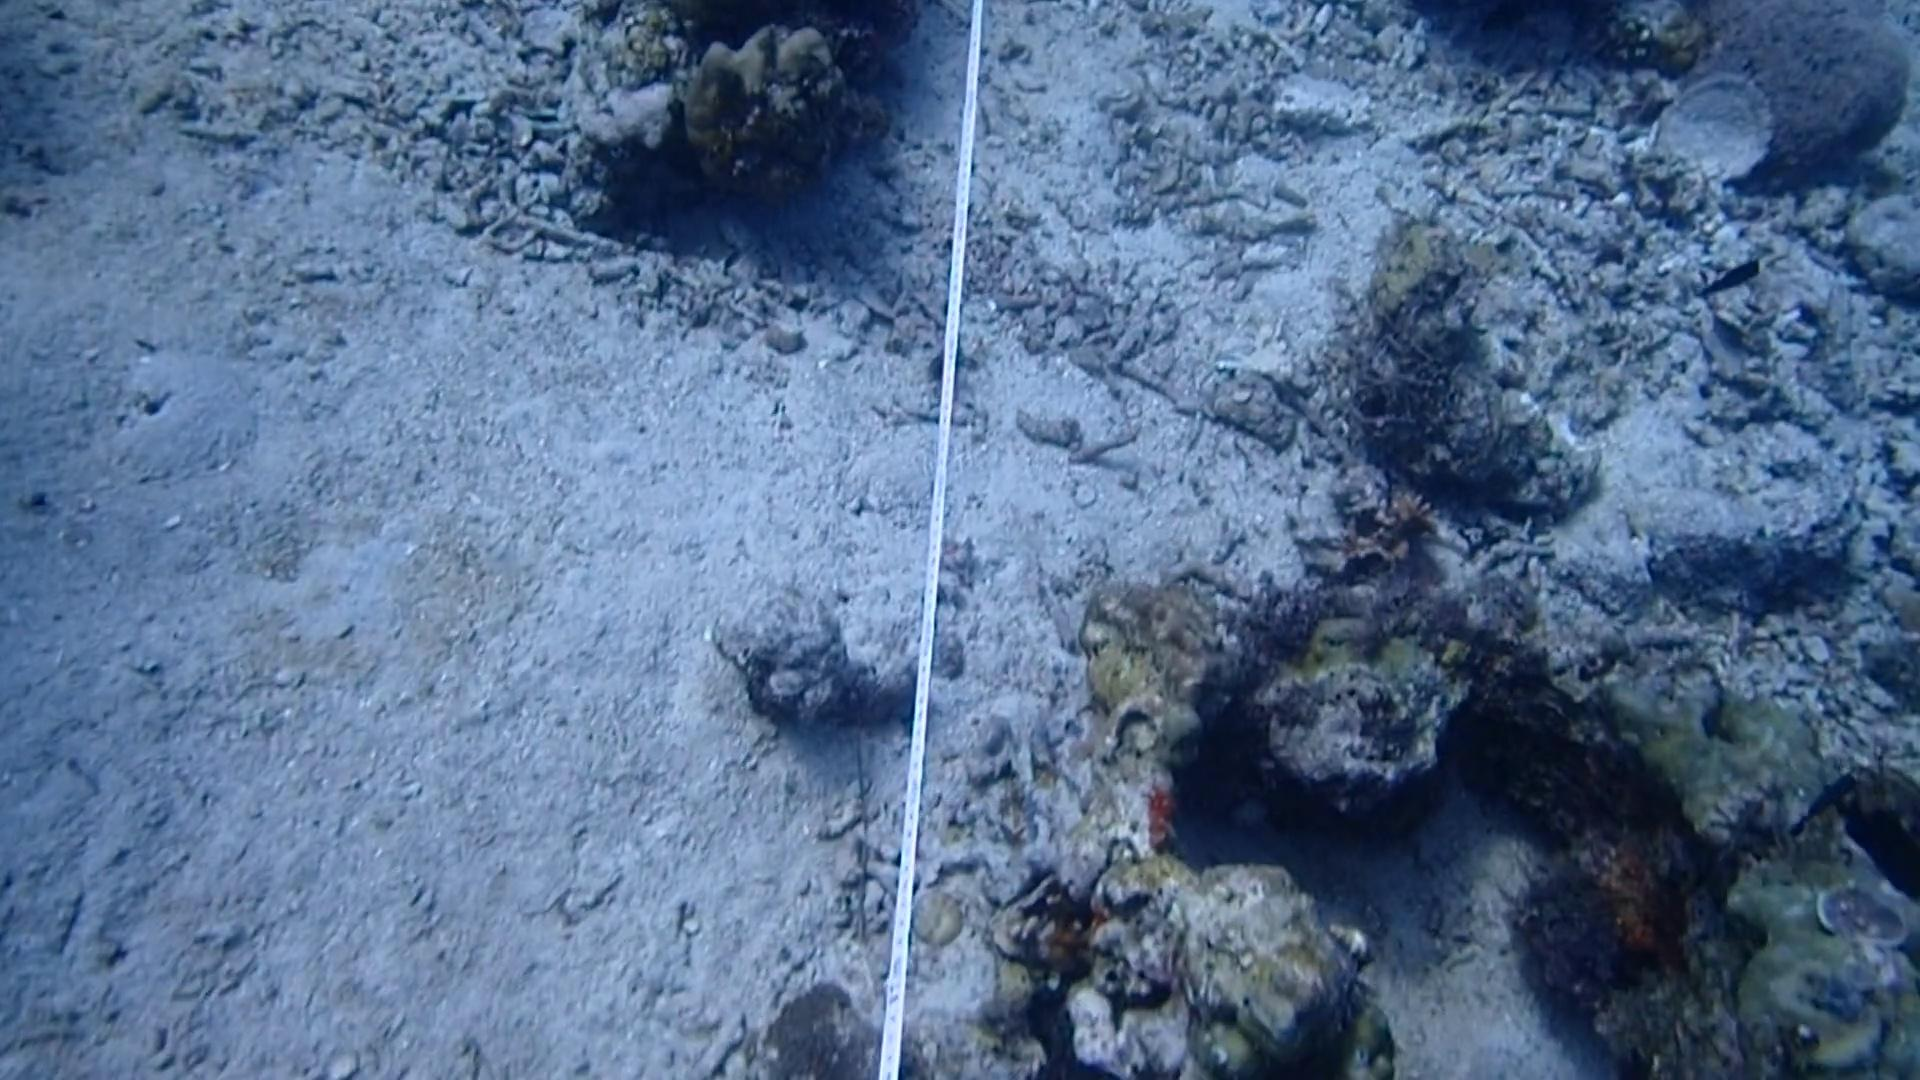Dark Fish: (1838, 793, 1920, 909), (1698, 247, 1768, 305)
